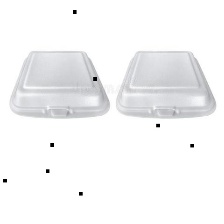foam_box: (6, 44, 113, 123), (113, 44, 220, 123)
